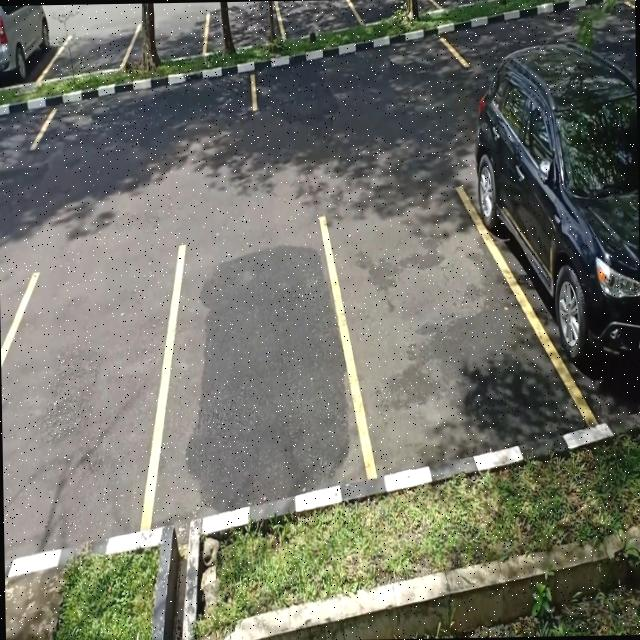empty: (160, 234, 348, 503), (340, 189, 507, 469), (0, 265, 159, 522), (31, 76, 258, 162), (252, 46, 469, 126)
occupied: (471, 101, 640, 435)
